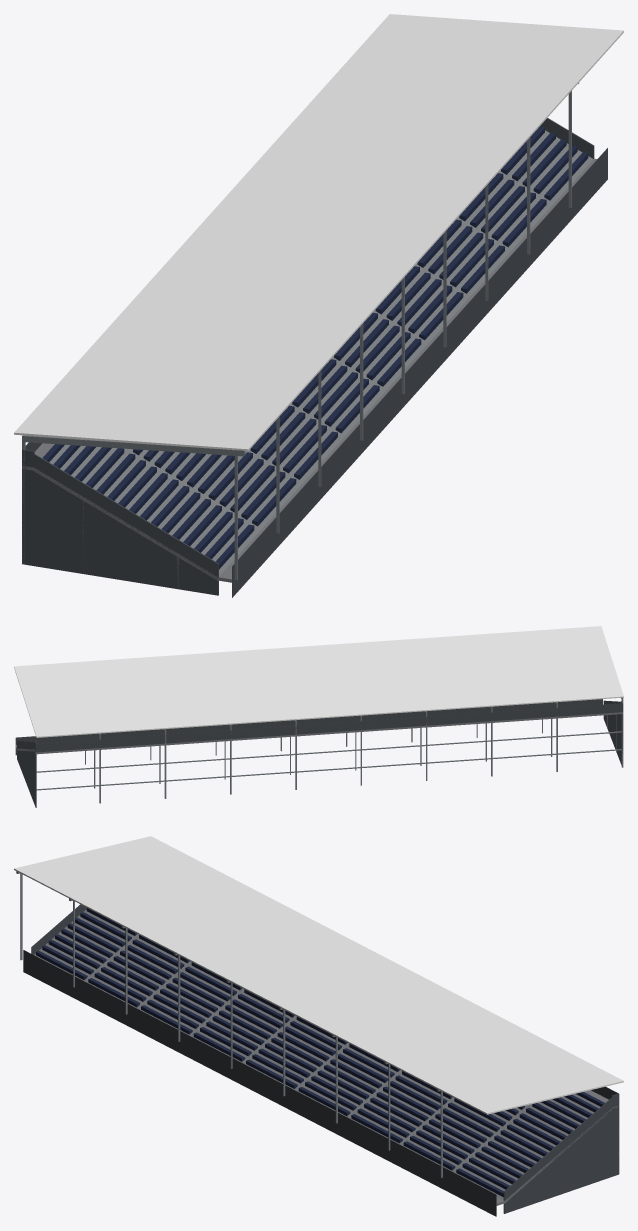
Rendered from sil_stand_village_b.glb.
3 renders of one model, top to bottom at view 1: azimuth 30°, elevation 25°; view 2: azimuth 150°, elevation 25°; view 3: azimuth 270°, elevation 25°, orthographic. The views are drawn at different scales.
Visible parts, largest first — view 1: silverstone-village-b; view 2: silverstone-village-b; view 3: silverstone-village-b.
Boxes of the visible parts, box(x1,y1,x2,y2) form: silverstone-village-b: box(14, 14, 623, 597); silverstone-village-b: box(14, 626, 623, 807); silverstone-village-b: box(14, 836, 623, 1216).
Bounding box in the file's own units: 67.62 × 11.52 × 59.68.
